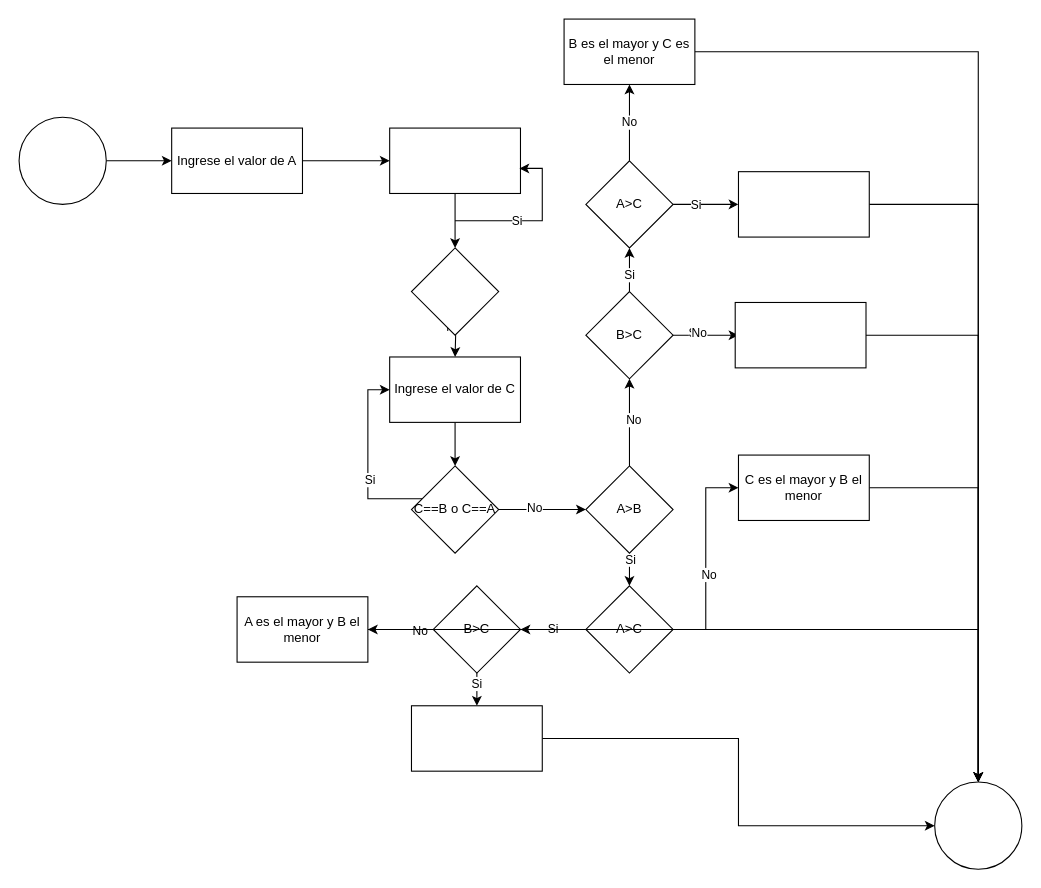
The diagram is 1041 pixels wide and 888 high, and some of its shapes have lost their labels. Each missing label, with the centre of its shape:
"A es el mayor y C el menor" belongs at pixel 476 738.
"A=B" belongs at pixel 454 291.
"B es el mayor y A es el menor" belongs at pixel 803 204.
"C es el mayor y A el menor" belongs at pixel 800 334.
"Fin" belongs at pixel 978 825.
"Ingrese el Valor de B" belongs at pixel 454 160.
